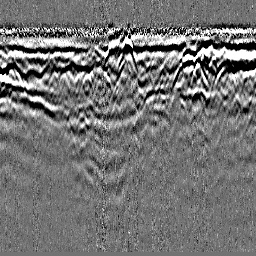cavity: (117, 37, 138, 71)
